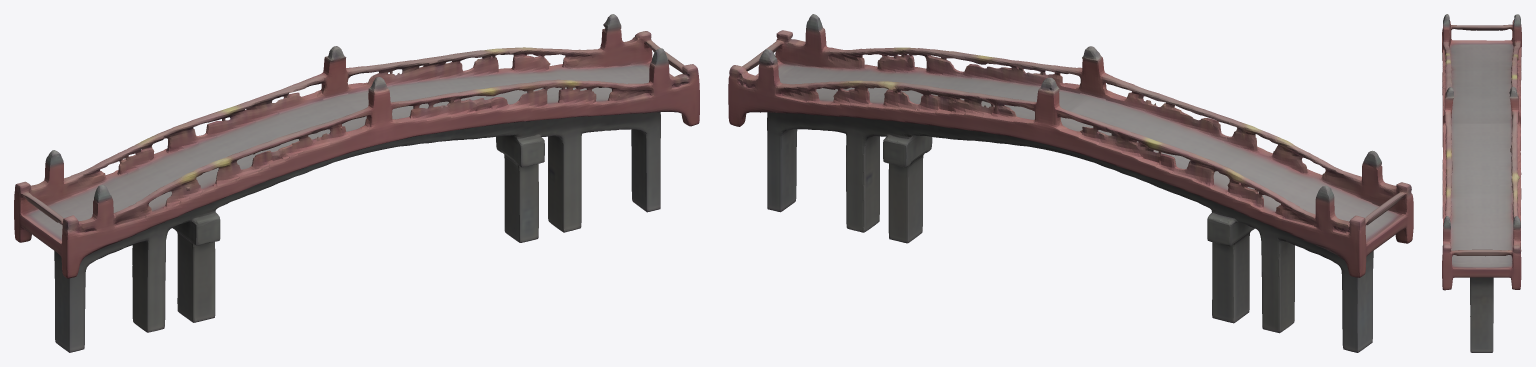
The model's file is japan-bridge.glb.
3 renders of one model, left to right at view 1: azimuth 30°, elevation 25°; view 2: azimuth 150°, elevation 25°; view 3: azimuth 270°, elevation 25°, orthographic. The views are drawn at different scales.
Visible parts, largest first — view 1: world; view 2: world; view 3: world.
Part boxes in pixels (x1=…): world: x1=14, y1=14, x2=699, y2=352; world: x1=728, y1=14, x2=1413, y2=352; world: x1=1442, y1=14, x2=1521, y2=352.
Size of the model in its own units: 0.9999 by 0.3233 by 0.1476.
